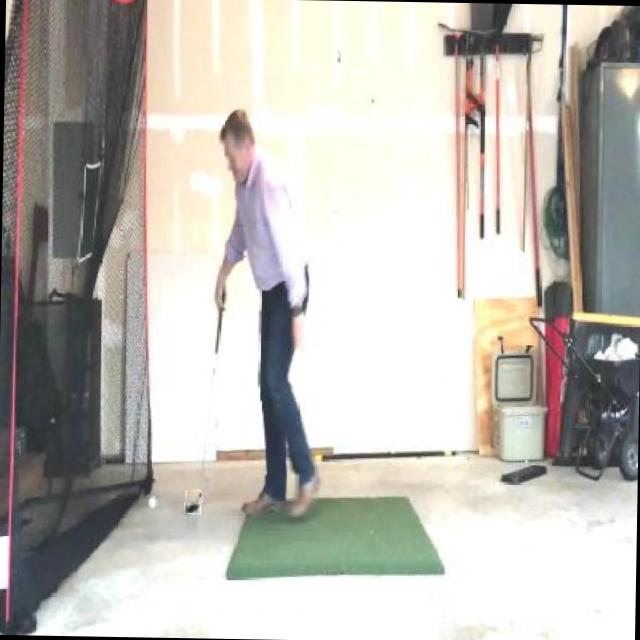club head: (184, 490, 202, 514)
